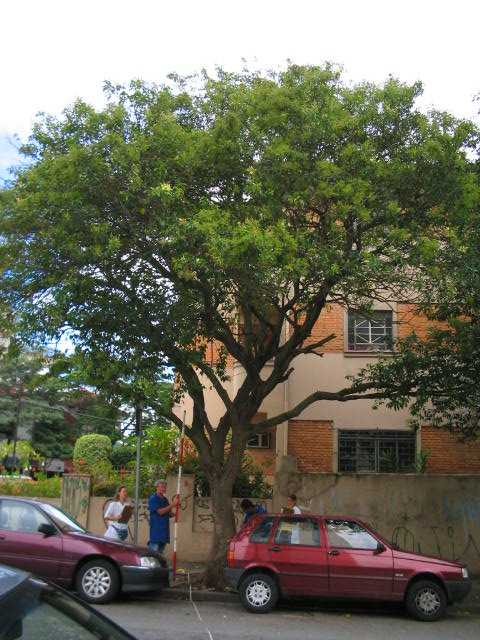crown: (4, 61, 475, 439)
stem: (190, 483, 246, 592)
stick: (167, 410, 187, 583)
tree: (1, 59, 476, 594)
